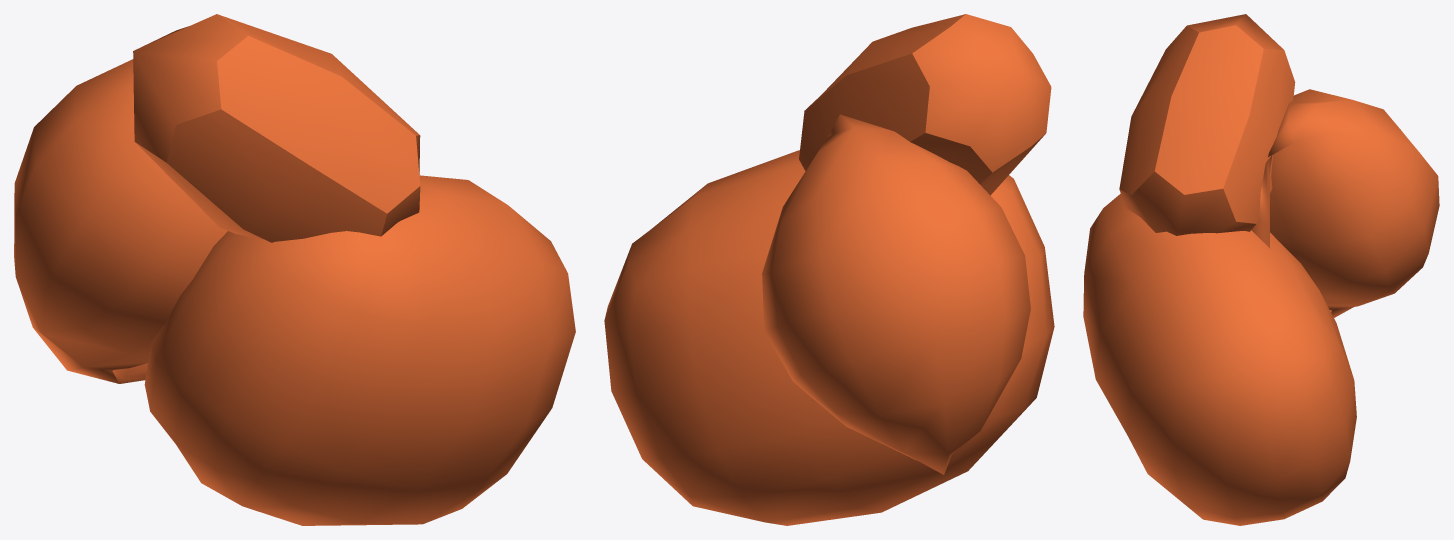
The model's file is arm_plump.glb.
The picture shows the model from 3 angles, left to right: view 1: azimuth 30°, elevation 25°; view 2: azimuth 150°, elevation 25°; view 3: azimuth 270°, elevation 25°; orthographic projection. The views are drawn at different scales.
Parts seen in each view (by area): view 1: plump.002; view 2: plump.002; view 3: plump.002.
Boxes of the visible parts, x1=… form: plump.002: x1=14, y1=14, x2=575, y2=525; plump.002: x1=604, y1=14, x2=1054, y2=525; plump.002: x1=1083, y1=14, x2=1439, y2=525.
Bounding box in the file's own units: 0.1308 × 0.1449 × 0.1117.
